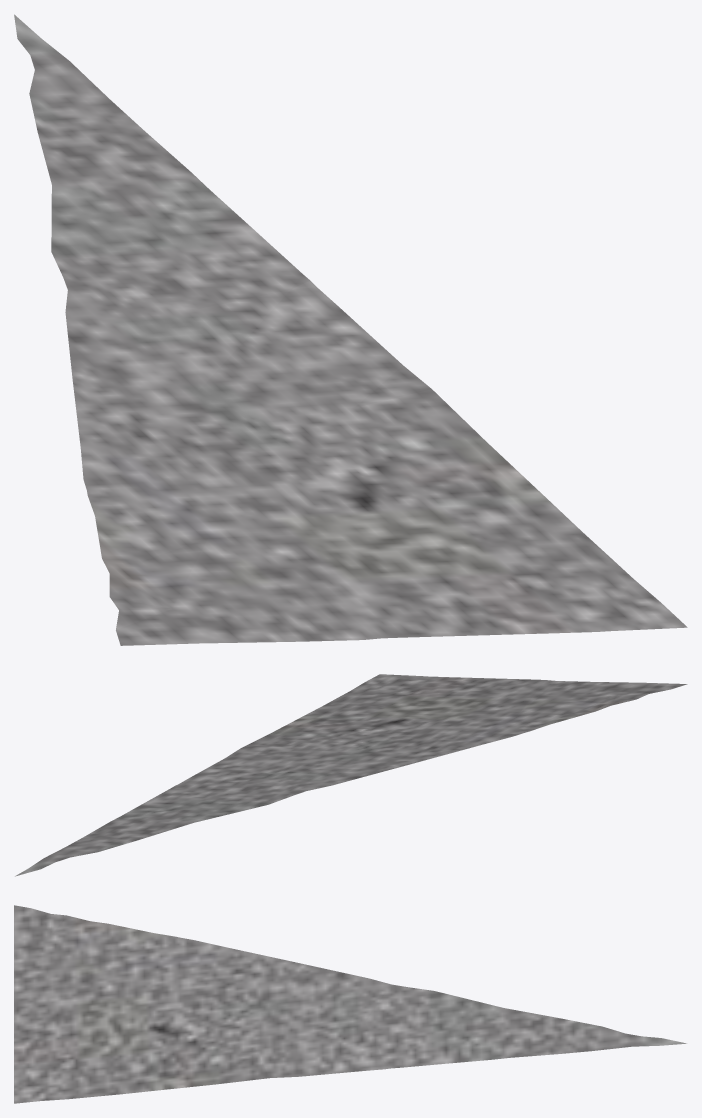
3 views of the same model, one above another, from view 1: azimuth 30°, elevation 25°; view 2: azimuth 150°, elevation 25°; view 3: azimuth 270°, elevation 25° (orthographic). The views are drawn at different scales.
Size of the model in its own units: 0.4759 by 0.0963 by 0.9792.
1 material, 1 textured.
